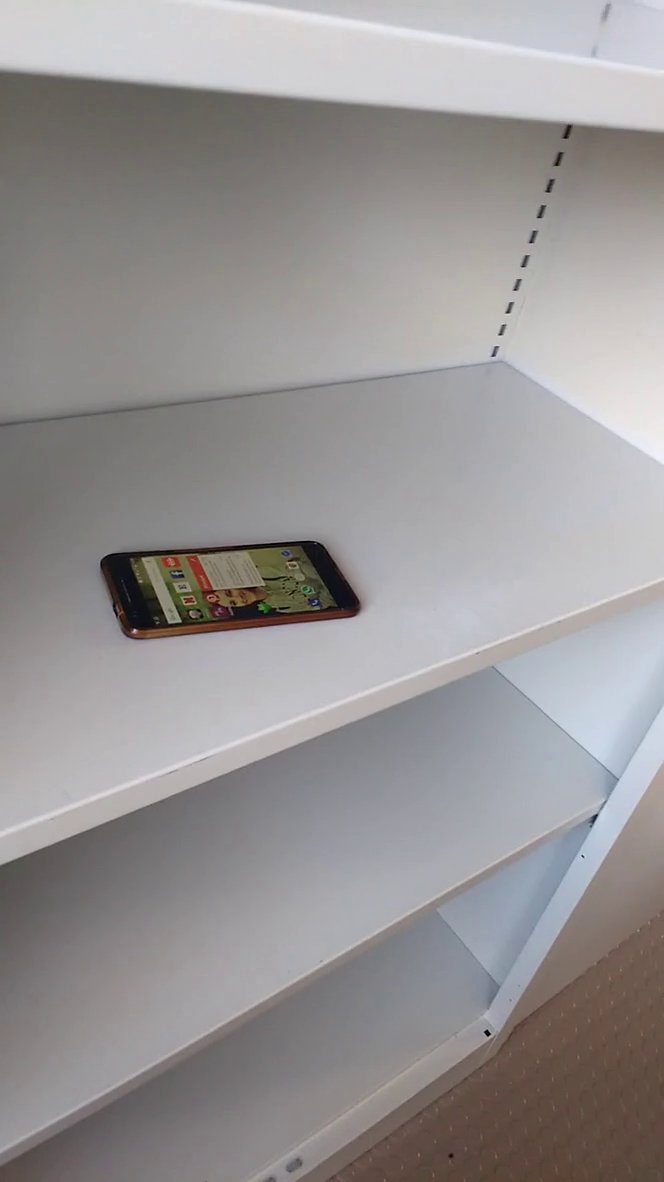phone: (90, 516, 382, 652)
